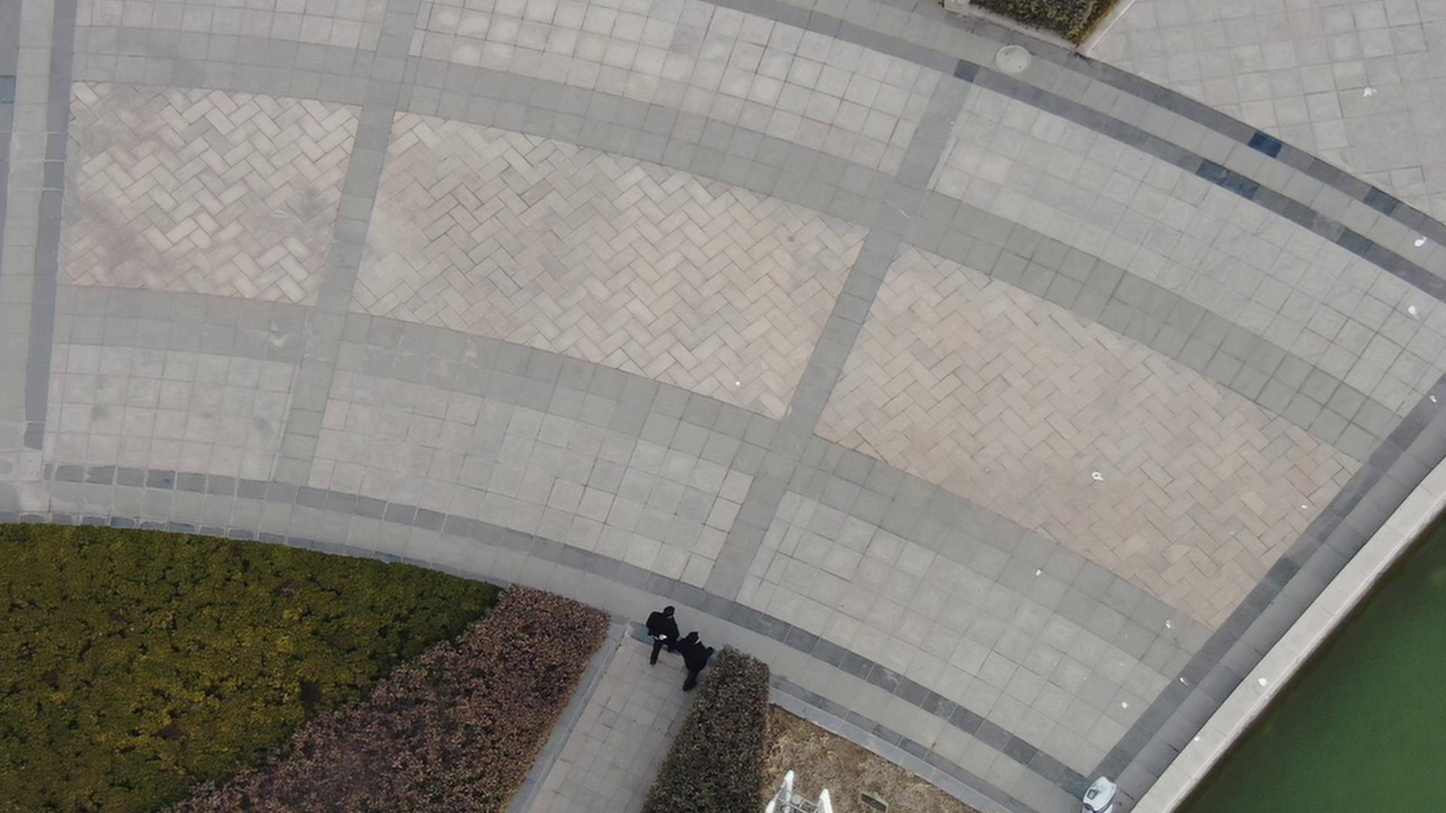human: (670, 620, 726, 680), (641, 586, 681, 666)
